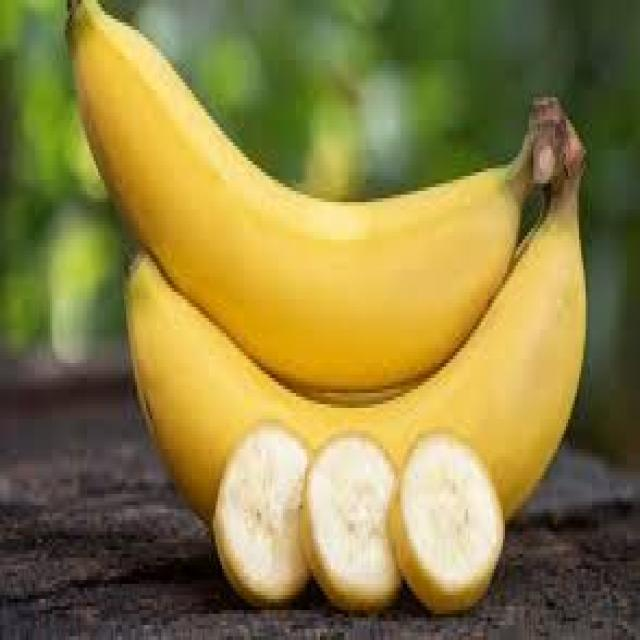banana: (55, 0, 593, 513)
